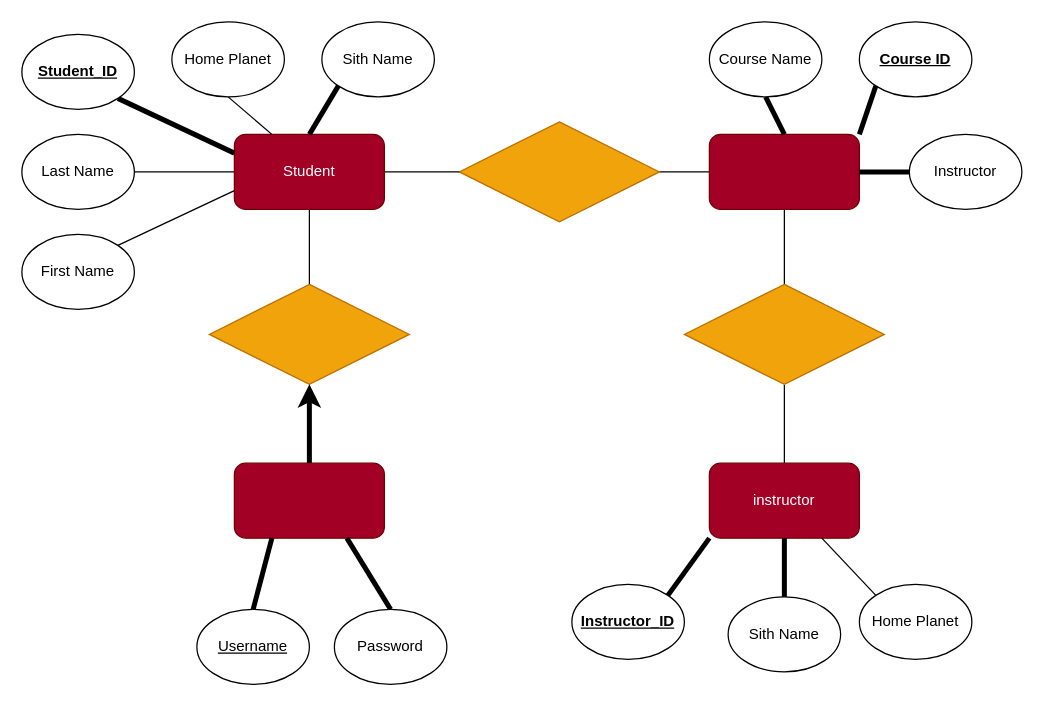
Image size: 1044x706. Some labels were removed from this diagram. Each missing label, with the centre of its shape:
Course: the point at 783,171
Has A: the point at 308,333
Takes: the point at 558,171
Teaches: the point at 783,333
User Account: the point at 308,500
